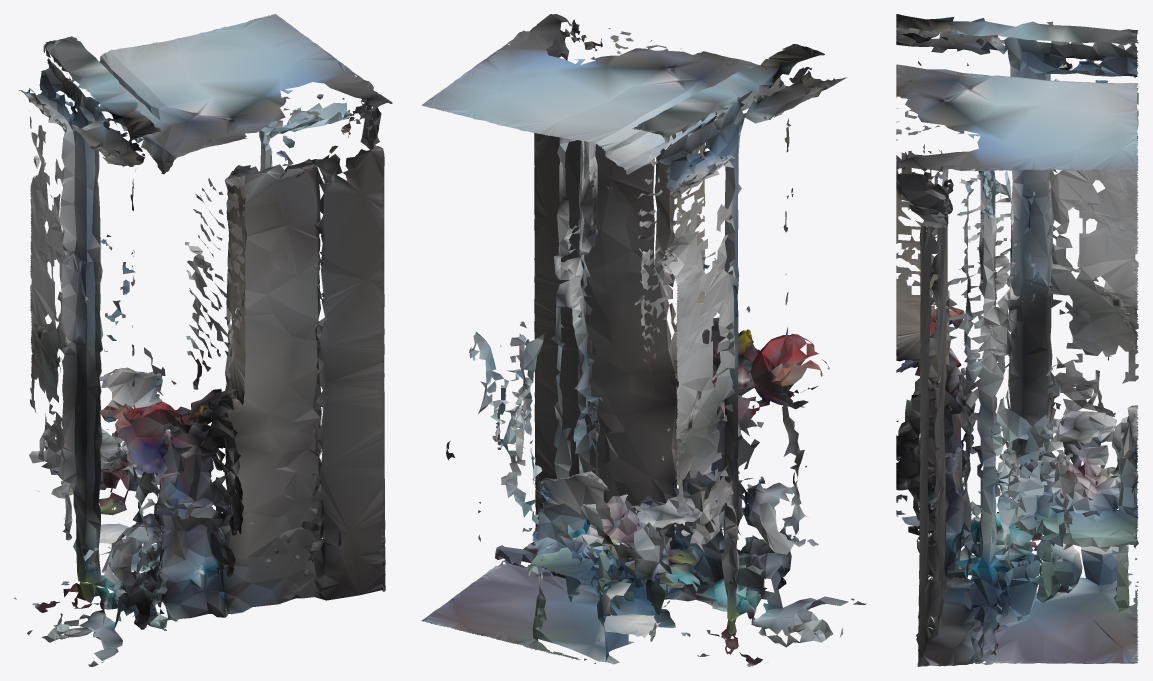
The model's file is coarse.glb.
The picture shows the model from 3 angles, left to right: view 1: azimuth 30°, elevation 25°; view 2: azimuth 150°, elevation 25°; view 3: azimuth 270°, elevation 25°; orthographic projection. The views are drawn at different scales.
Bounding box in the file's own units: 2.04 × 3.14 × 1.3.
